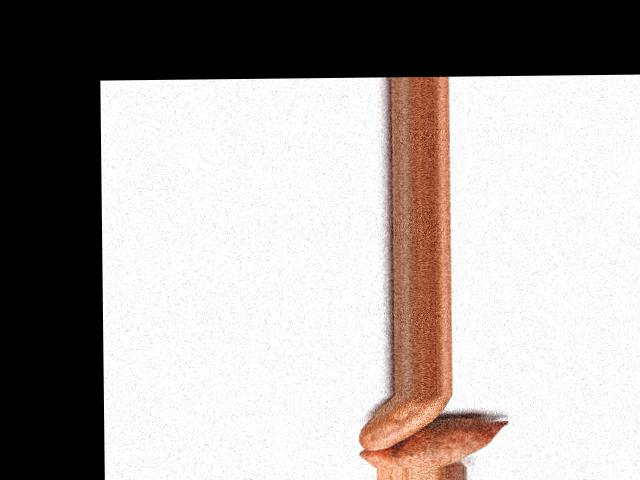sweet_potato: (358, 394, 458, 449)
